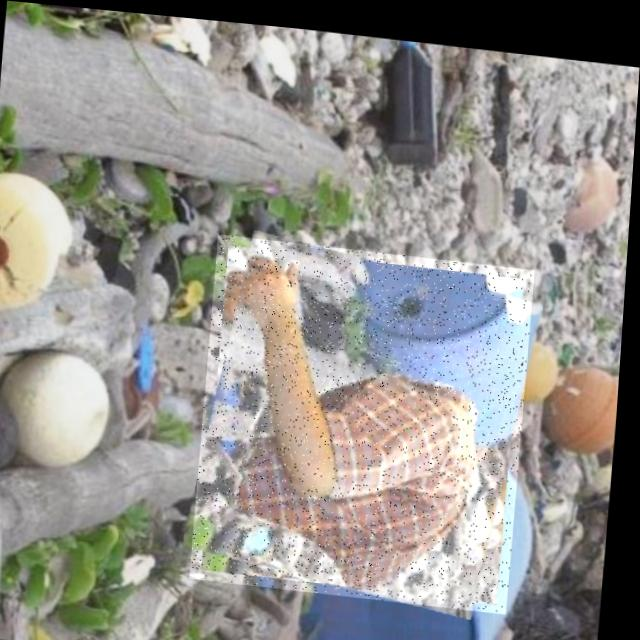Person in Rubble: (196, 229, 537, 603)
